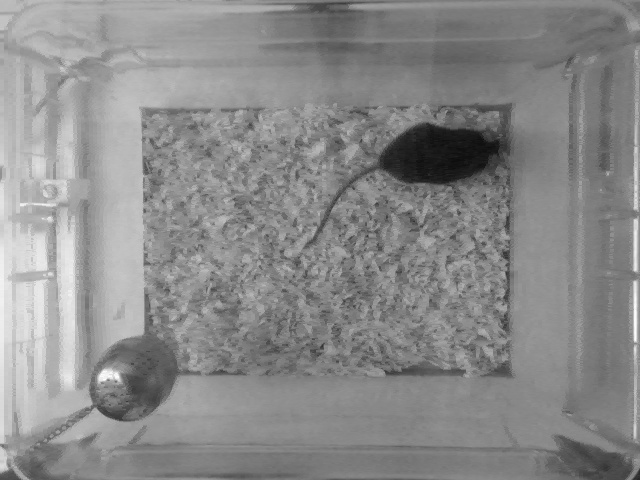mice: (299, 122, 505, 253)
